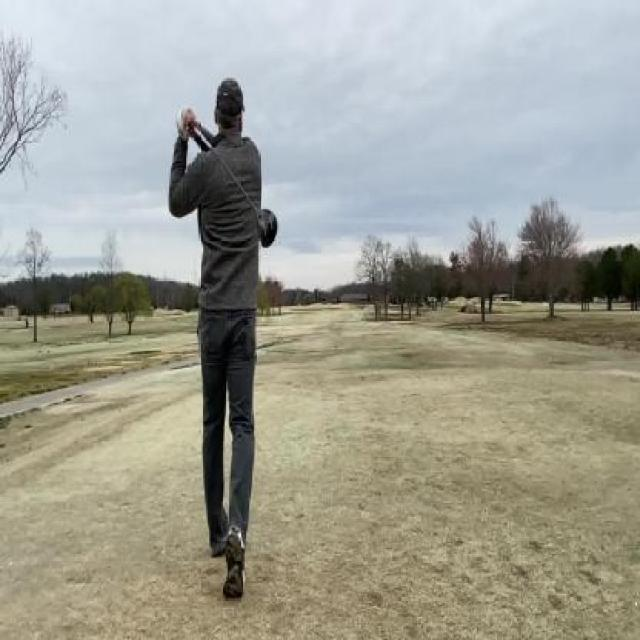club head: (250, 202, 278, 248)
